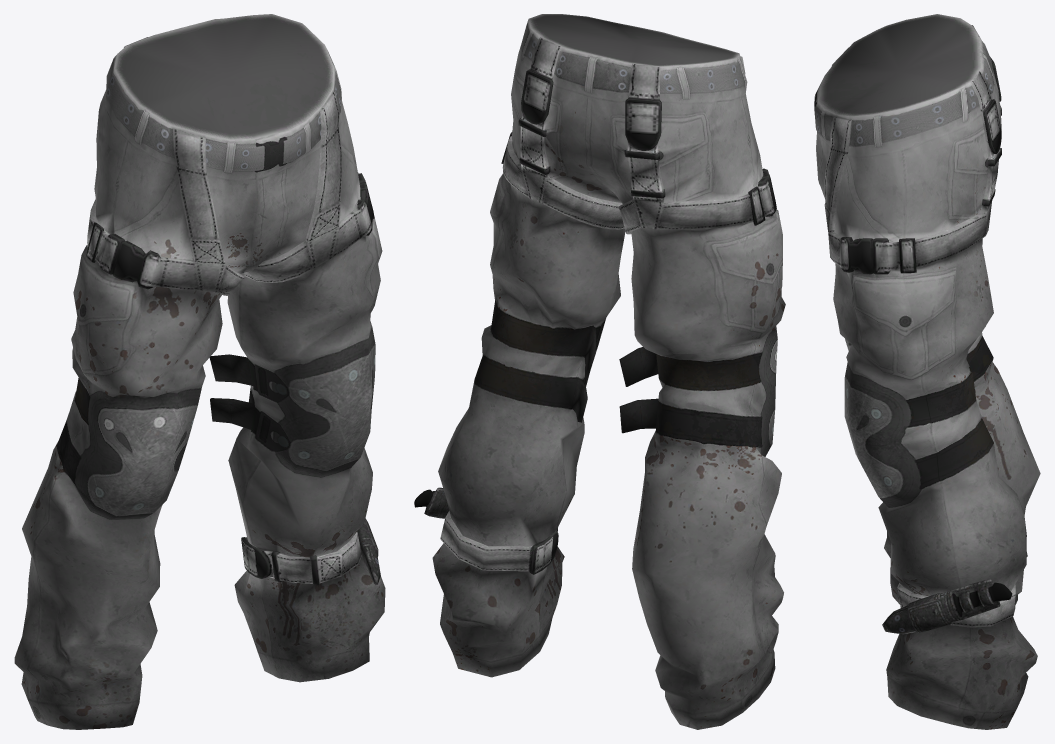
File: SurvivorMale_Legs_Pants_KneePadsLegStraps_LOD0.glb
3 renders of one model, left to right at view 1: azimuth 30°, elevation 25°; view 2: azimuth 150°, elevation 25°; view 3: azimuth 270°, elevation 25°, orthographic. The views are drawn at different scales.
Parts seen in each view (by area): view 1: Hoodie; view 2: Hoodie; view 3: Hoodie.
Boxes of the visible parts, x1=… form: Hoodie: x1=14, y1=14, x2=385, y2=729; Hoodie: x1=414, y1=14, x2=785, y2=729; Hoodie: x1=814, y1=14, x2=1040, y2=729.
Bounding box in the file's own units: 0.5494 × 1.02 × 0.3367.
1 material, 1 textured.
